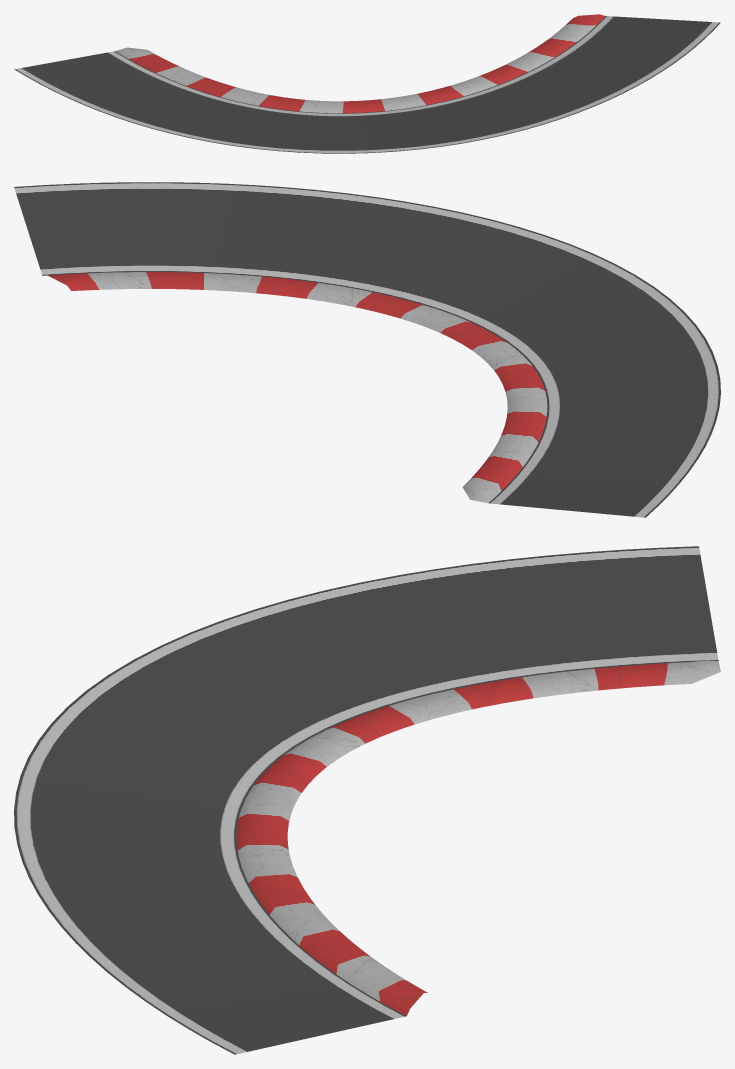
Rendered from sm_road.fbx.
3 renders of one model, top to bottom at view 1: azimuth 30°, elevation 25°; view 2: azimuth 150°, elevation 25°; view 3: azimuth 270°, elevation 25°, orthographic. The views are drawn at different scales.
Parts seen in each view (by area): view 1: sm_road.016; view 2: sm_road.016; view 3: sm_road.016.
Part boxes in pixels (x1=…): sm_road.016: x1=14, y1=14, x2=720, y2=153; sm_road.016: x1=14, y1=182, x2=720, y2=517; sm_road.016: x1=14, y1=546, x2=720, y2=1054.
Size of the model in its own units: 78.97 by 1.54 by 46.39.
